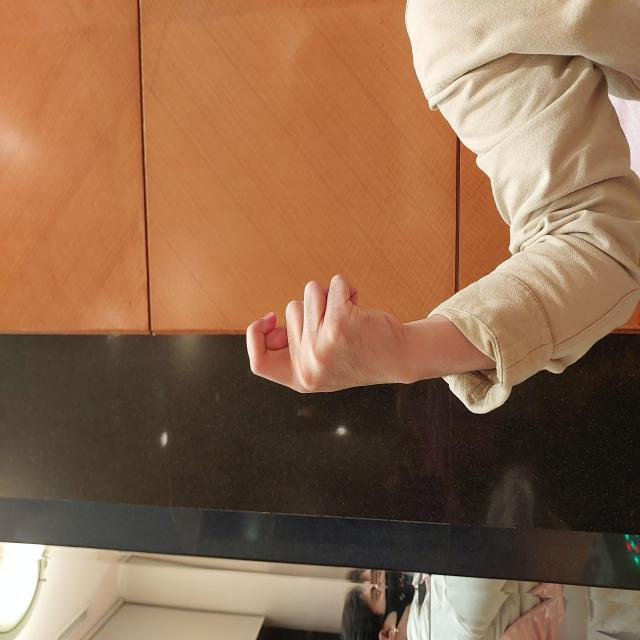T: (245, 245, 368, 411)
